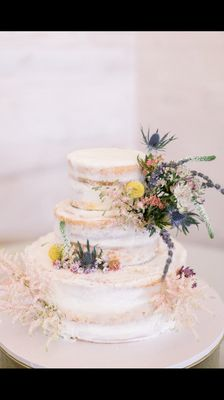sushi: (37, 196, 197, 344)
